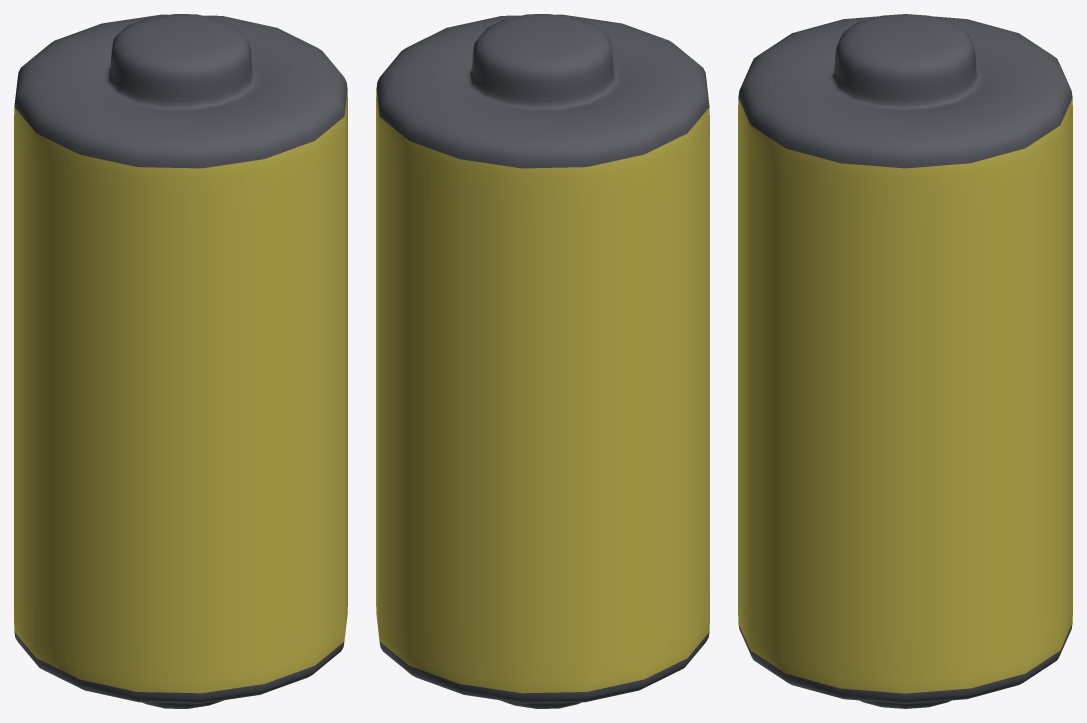
Rendered from PILE.fbx.
3 renders of one model, left to right at view 1: azimuth 30°, elevation 25°; view 2: azimuth 150°, elevation 25°; view 3: azimuth 270°, elevation 25°, orthographic.
Visible parts, largest first — view 1: Cube; view 2: Cube; view 3: Cube.
Part boxes in pixels (box(x1,y1,x2,y2)): Cube: box(14, 14, 347, 708); Cube: box(376, 14, 709, 708); Cube: box(738, 14, 1072, 708).
Size of the model in its own units: 167 by 360 by 167.
